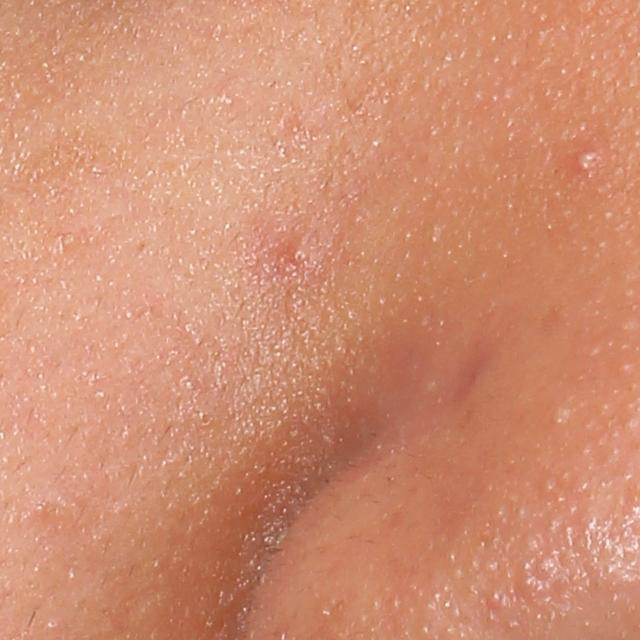comedo: (548, 399, 579, 428)
pustule: (569, 149, 597, 179)
